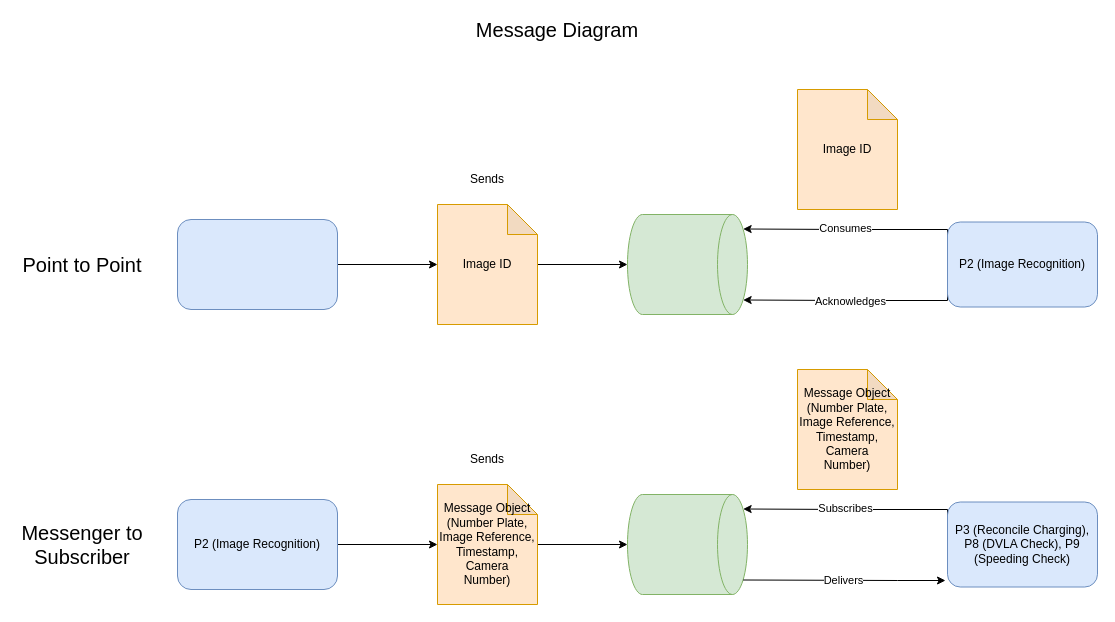
This 1115x622 diagram has some shape labels left out. Here are the shapes that lost their labels. From the top down, the centre of each, then its label:
At point (257, 264): "P1 (Receiving Image)".
At point (687, 264): "Image Queue".
At point (687, 544): "Image Topic".
